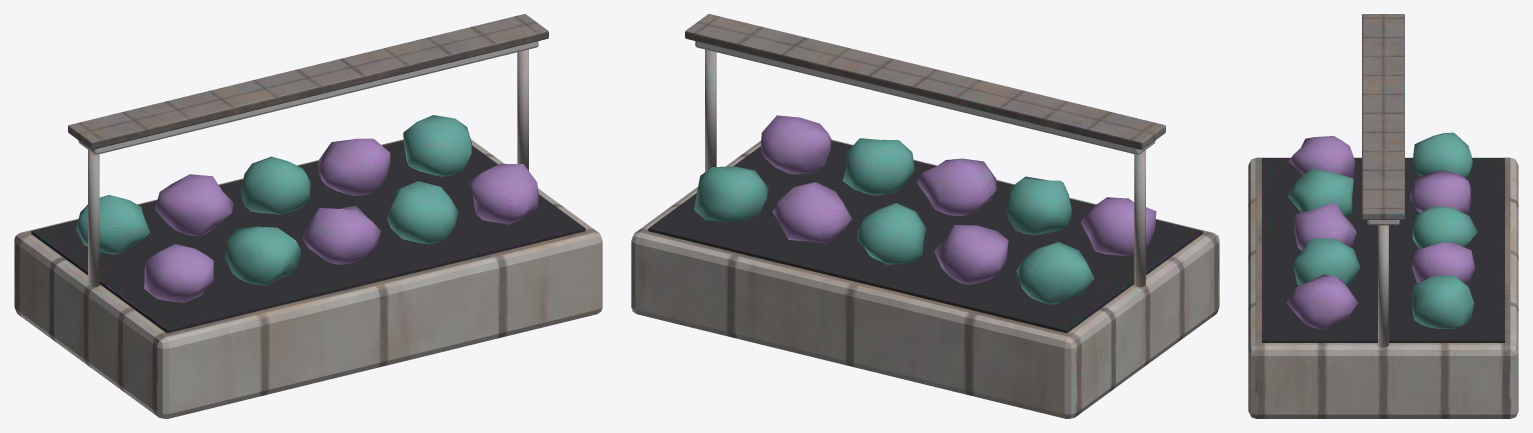
Rendered from garden.glb.
The picture shows the model from 3 angles, left to right: view 1: azimuth 30°, elevation 25°; view 2: azimuth 150°, elevation 25°; view 3: azimuth 270°, elevation 25°; orthographic projection. The views are drawn at different scales.
Visible parts, largest first — view 1: garden, Glow; view 2: garden, Glow; view 3: garden.
Part boxes in pixels (x1,y1,x2,y2): garden: (14,14,602,418); Glow: (78,41,538,154); garden: (631,14,1219,418); Glow: (695,41,1155,154); garden: (1248,14,1518,418).
Bounding box in the file's own units: 1.75 × 0.865 × 1.
Materials: 2 (1 with a texture image).
